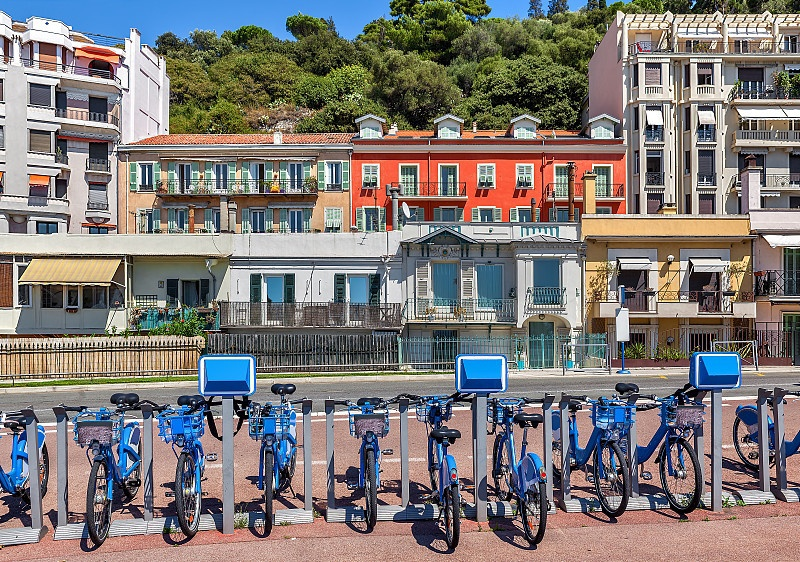non-vehicle: (70, 392, 141, 550), (633, 378, 708, 516), (492, 391, 552, 546), (335, 390, 398, 535), (562, 391, 631, 519), (413, 389, 465, 552), (158, 391, 212, 541), (246, 381, 298, 534)
